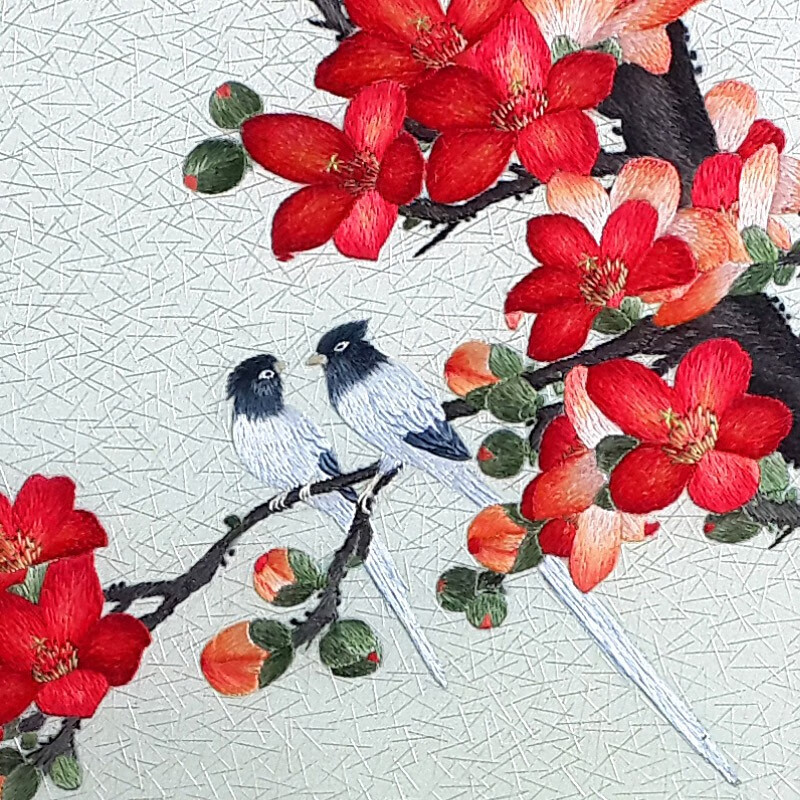bird: (310, 314, 746, 787), (219, 347, 445, 692)
kapok: (501, 155, 730, 362), (558, 334, 794, 515), (407, 7, 618, 206), (239, 78, 423, 262), (1, 549, 151, 728), (311, 1, 517, 101), (690, 146, 800, 273), (1, 470, 110, 594), (516, 1, 702, 73), (704, 81, 788, 160)
